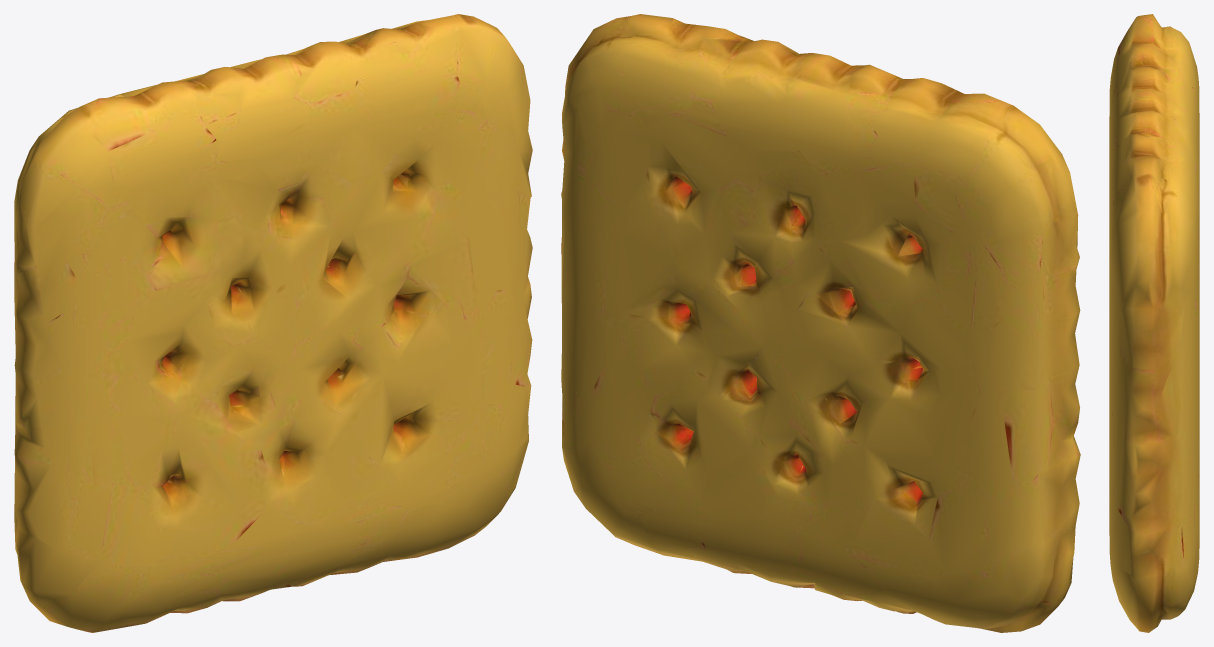
Rendered from pastrySquare.cff9df45.glb.
3 views of the same model, side by side, from view 1: azimuth 30°, elevation 25°; view 2: azimuth 150°, elevation 25°; view 3: azimuth 270°, elevation 25° (orthographic). The views are drawn at different scales.
Size of the model in its own units: 1.9 by 1.89 by 0.3332.
1 material, 1 textured.
